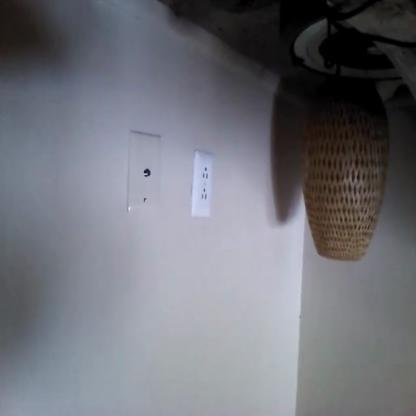OUTLET: (192, 150, 214, 217)
